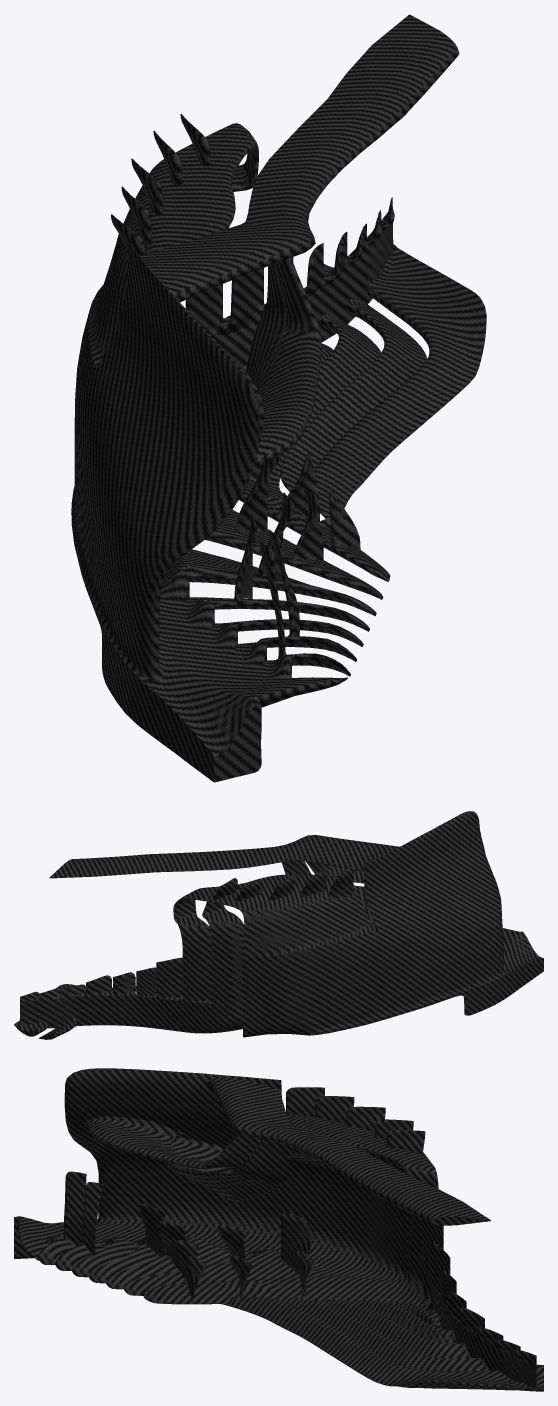
File: ldeflector.glb
3 views of the same model, one above another, from view 1: azimuth 30°, elevation 25°; view 2: azimuth 150°, elevation 25°; view 3: azimuth 270°, elevation 25° (orthographic). The views are drawn at different scales.
Visible parts, largest first — view 1: Deflector_LF; view 2: Deflector_LF; view 3: Deflector_LF.
Boxes of the visible parts, box(x1,y1,x2,y2) form: Deflector_LF: box(71, 14, 486, 782); Deflector_LF: box(14, 811, 543, 1039); Deflector_LF: box(14, 1068, 543, 1391).
Bounding box in the file's own units: 1.56 × 0.8308 × 1.93.
Materials: 1 (1 with a texture image).
